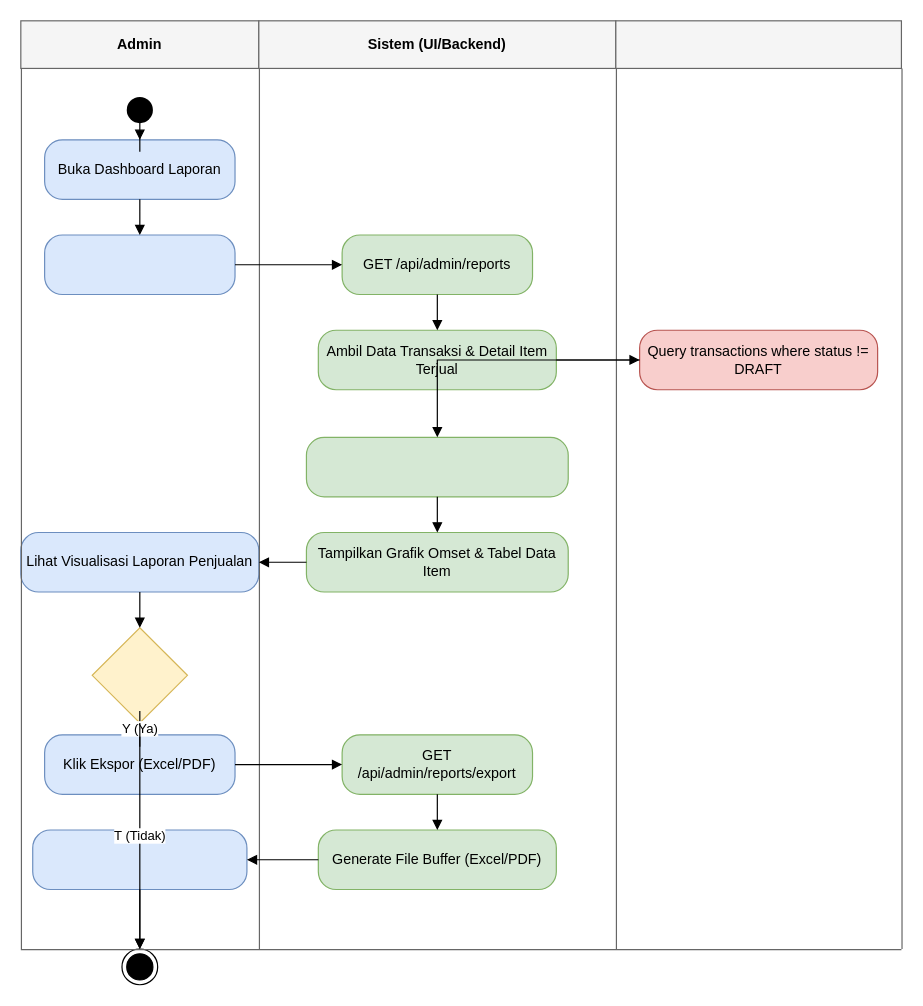
Image size: 923x1006. Some labels were removed from this diagram. The shapes that lost their labels are listed below. From the top down, each one's box as (x1, y1, x2, y2) in pixels, then its label:
(615, 20, 901, 68): Database
(43, 234, 235, 295): Pilih Rentang Tanggal
(305, 436, 568, 497): Kalkulasi Ringkasan (Omset, Diskon, Void, Terjual)
(91, 627, 187, 723): Ekspor Laporan?
(32, 829, 247, 890): Unduh Laporan Luring (Offline)
